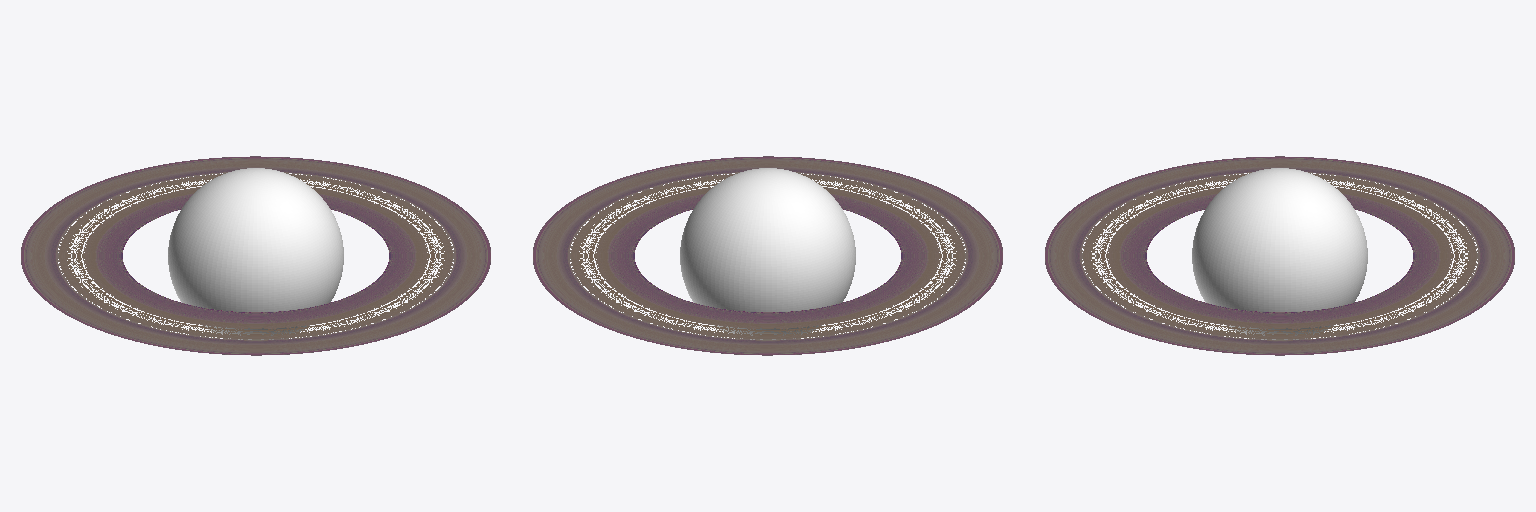
3 renders of one model, left to right at view 1: azimuth 30°, elevation 25°; view 2: azimuth 150°, elevation 25°; view 3: azimuth 270°, elevation 25°, orthographic.
Parts seen in each view (by area): view 1: Object.2, Object.1; view 2: Object.2, Object.1; view 3: Object.2, Object.1.
Boxes of the visible parts, x1,y1,x2,y2 form: Object.2: [21, 156, 490, 355]; Object.1: [168, 168, 343, 339]; Object.2: [533, 156, 1002, 355]; Object.1: [680, 168, 855, 339]; Object.2: [1045, 156, 1514, 355]; Object.1: [1192, 168, 1367, 339].
Bounding box in the file's own units: 536 × 200 × 536.
Materials: 2 (1 with a texture image).